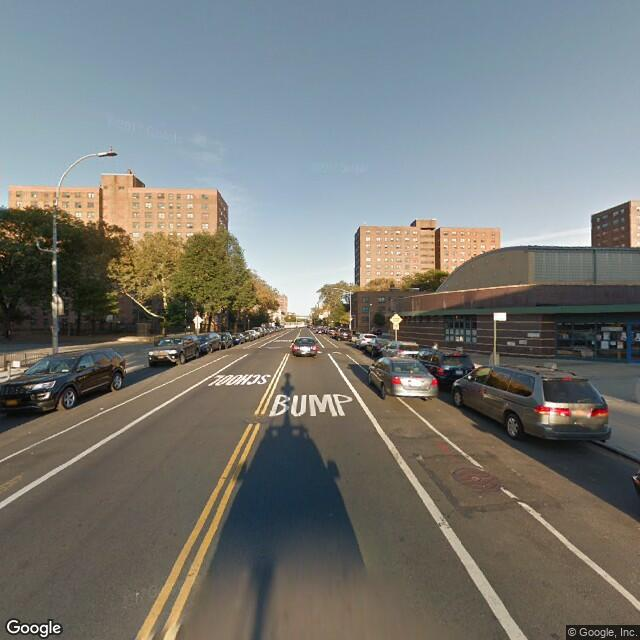litter: (97, 404, 108, 413)
